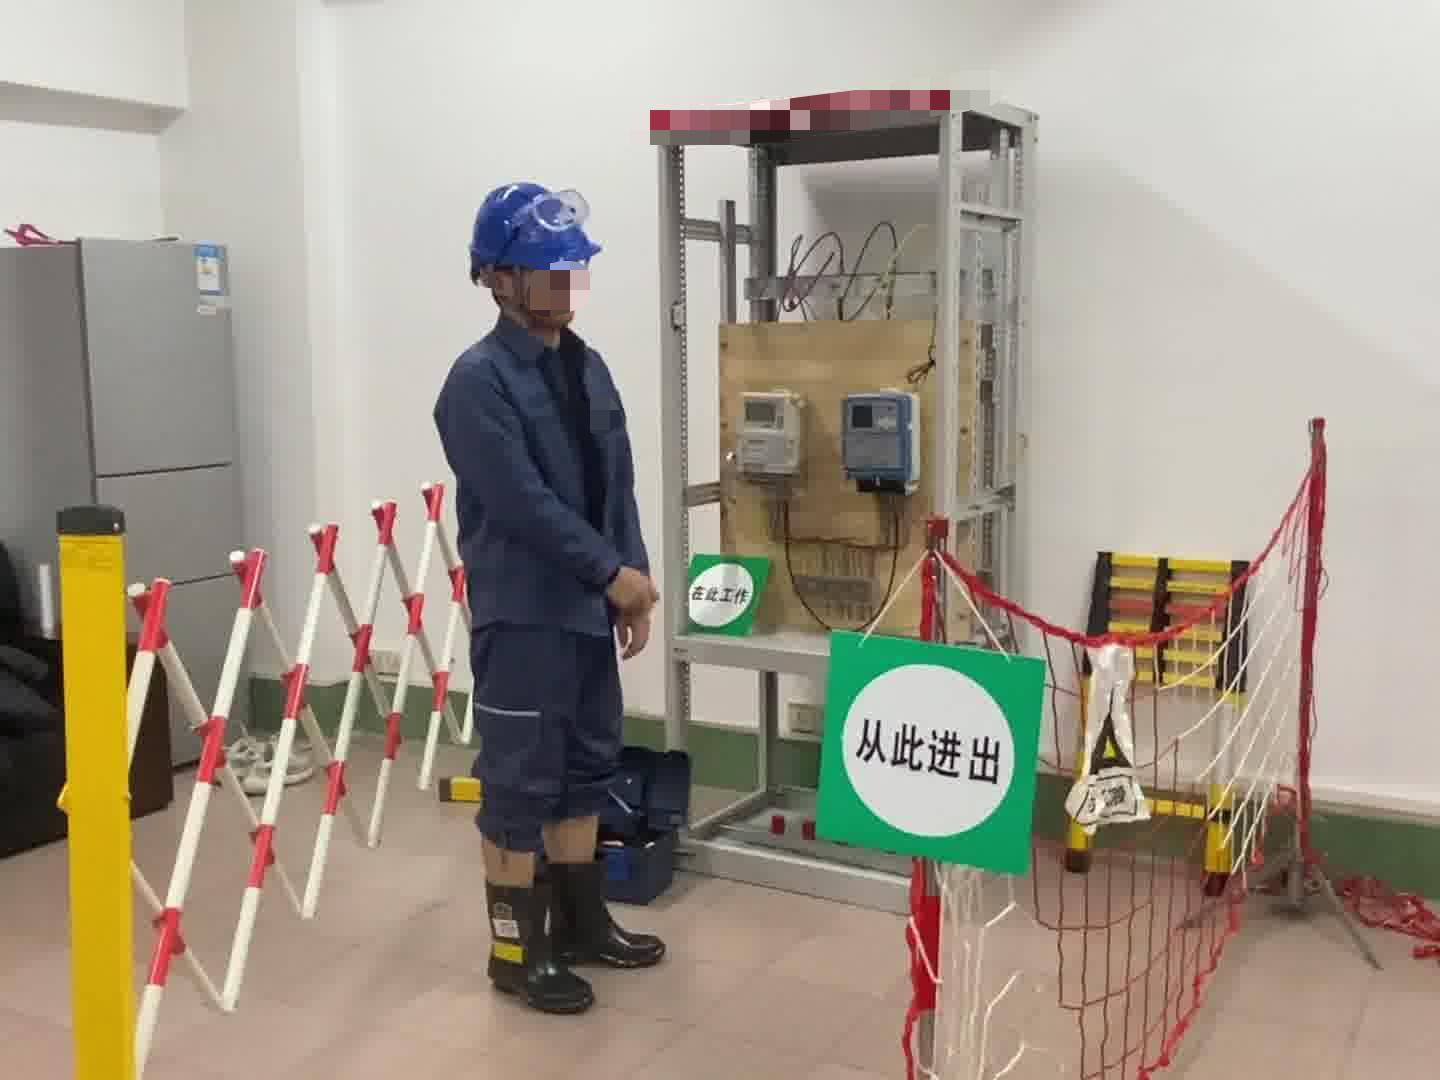halt: (467, 182, 605, 335)
inear: (485, 268, 547, 326)
